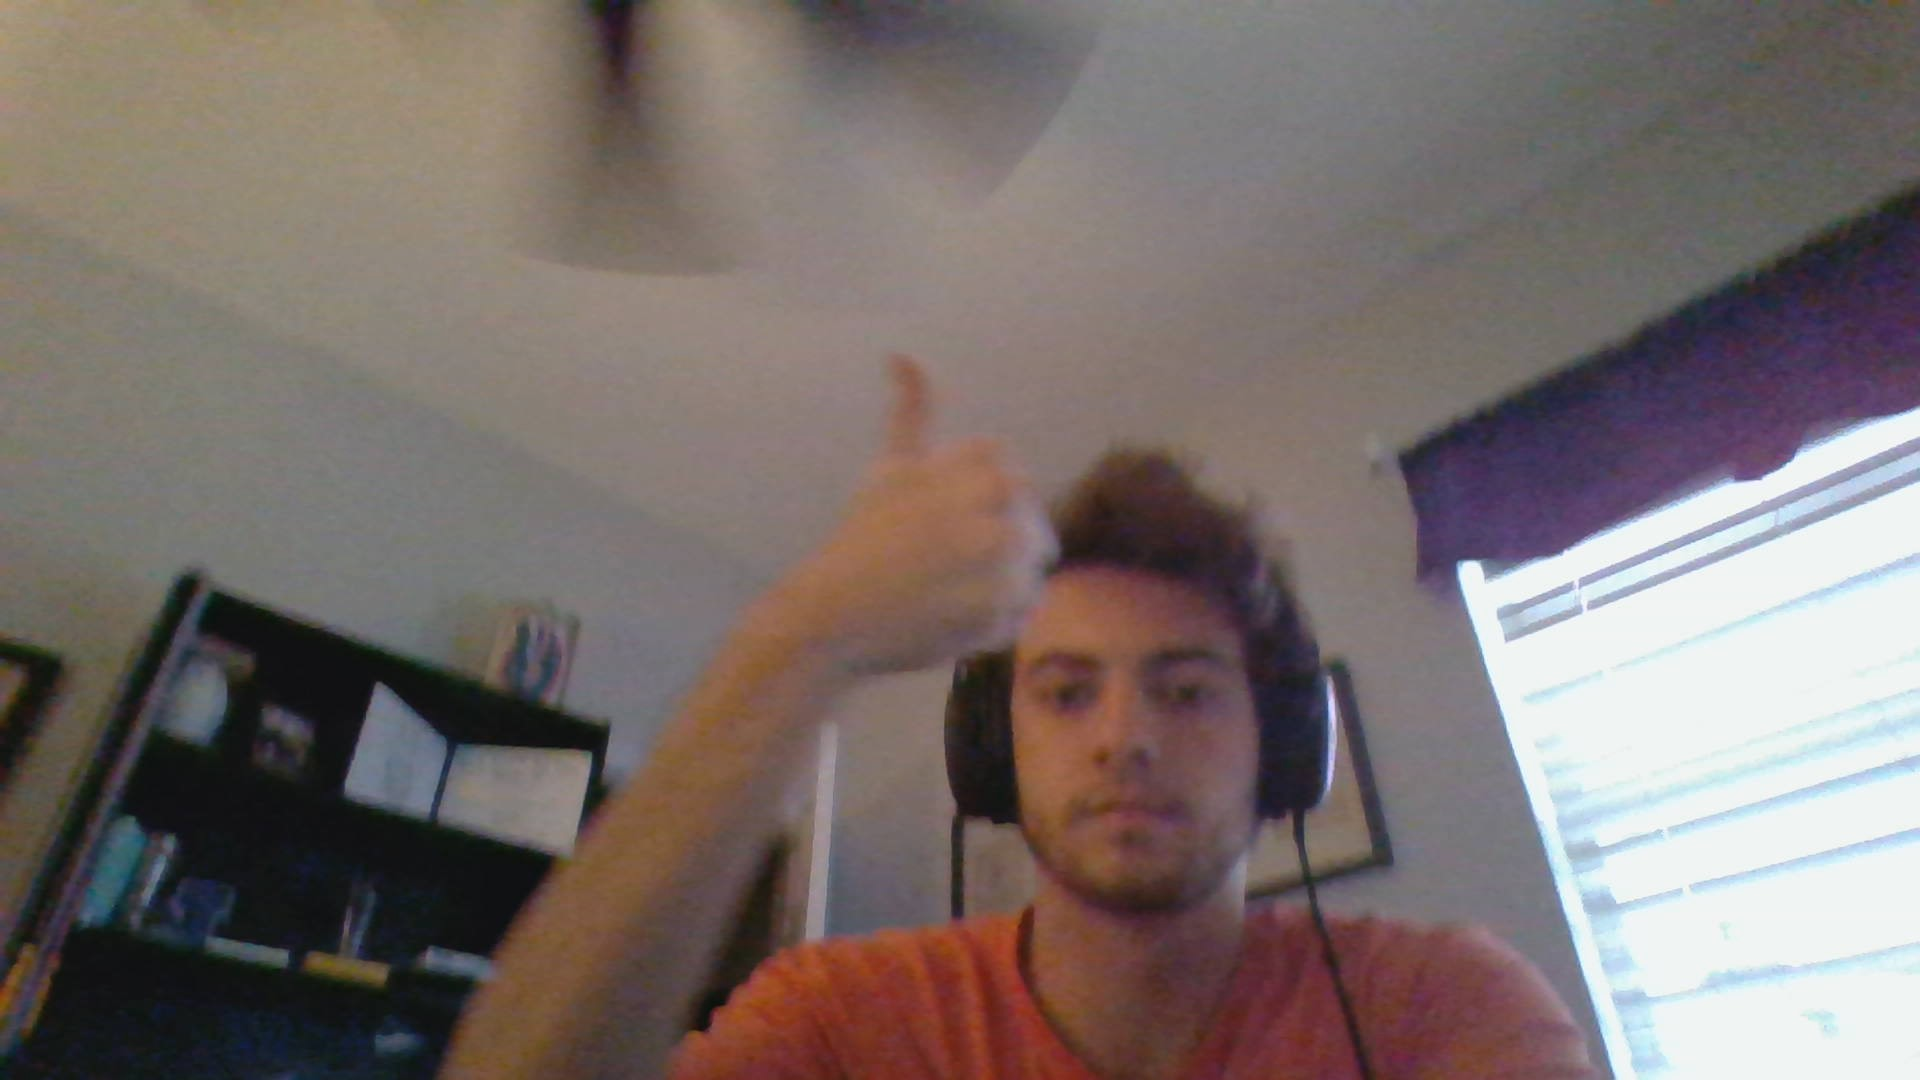Right Thumb Up: (774, 336, 1073, 665)
